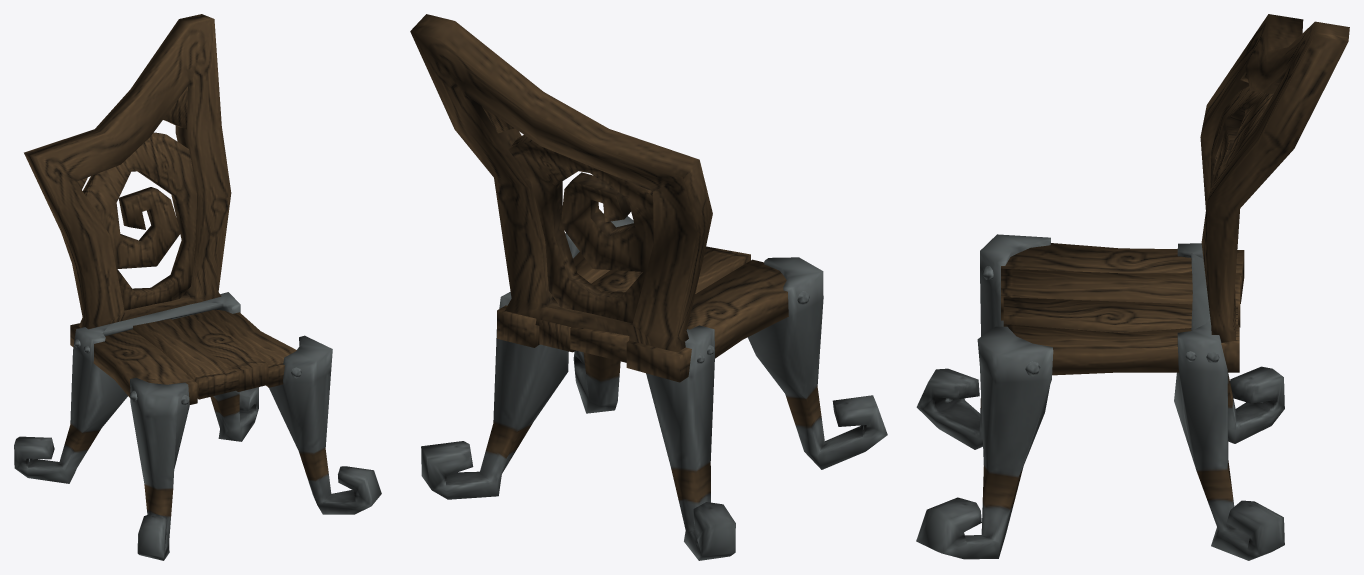
The model's file is chair3.glb.
The picture shows the model from 3 angles, left to right: view 1: azimuth 30°, elevation 25°; view 2: azimuth 150°, elevation 25°; view 3: azimuth 270°, elevation 25°; orthographic projection. The views are drawn at different scales.
Parts seen in each view (by area): view 1: node_id38; view 2: node_id38; view 3: node_id38.
Part boxes in pixels (x1=…): node_id38: x1=14, y1=14, x2=381, y2=560; node_id38: x1=410, y1=14, x2=887, y2=560; node_id38: x1=916, y1=14, x2=1349, y2=560.
Size of the model in its own units: 0.3331 by 0.512 by 0.3827.
1 material, 1 textured.
